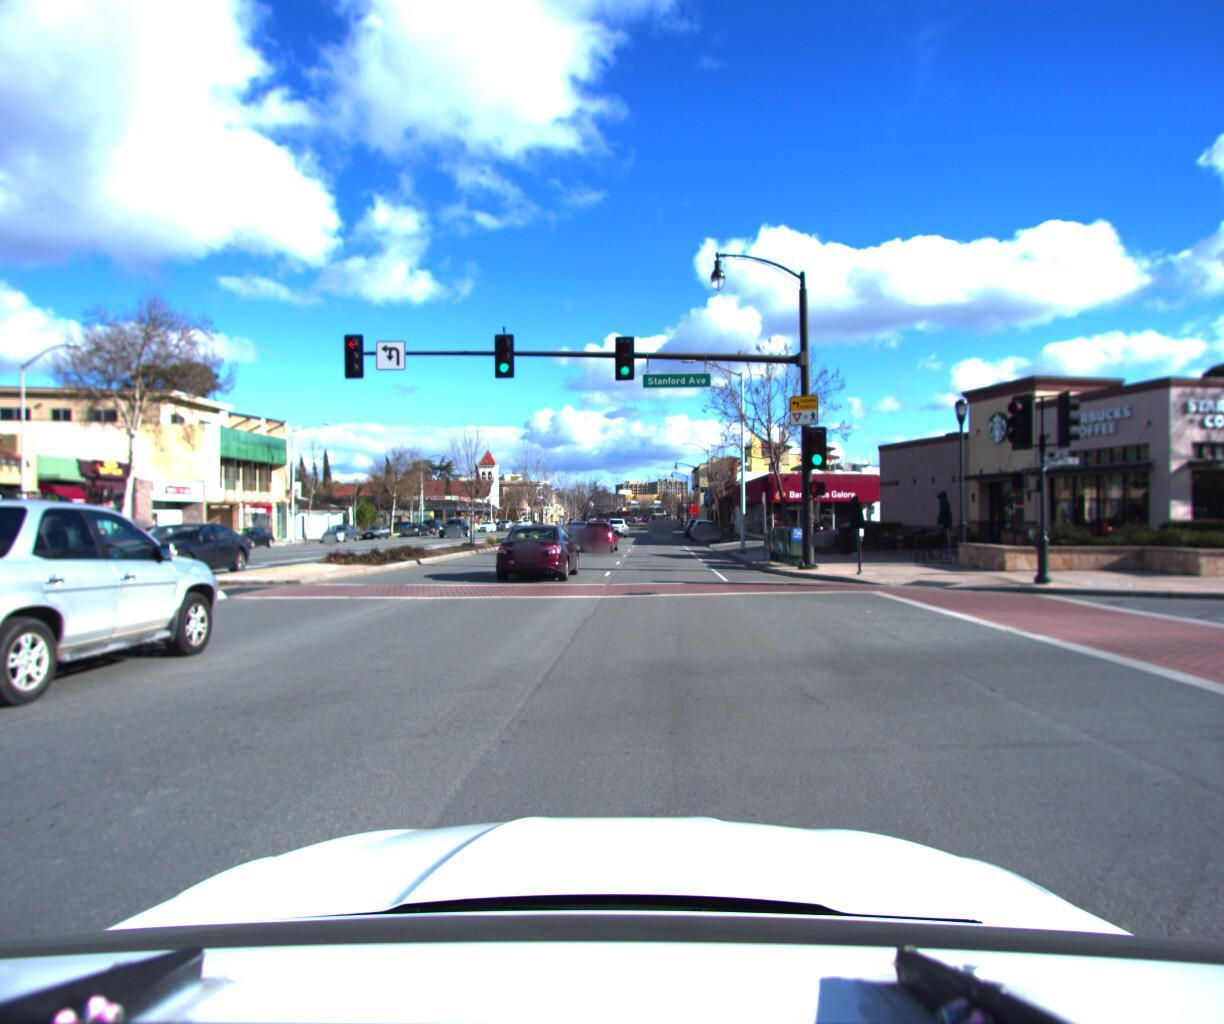car: (90, 522, 265, 585), (497, 521, 584, 589), (805, 519, 905, 550), (224, 528, 282, 552), (582, 522, 623, 555), (323, 524, 365, 544), (690, 519, 718, 542), (362, 525, 394, 541), (570, 521, 594, 541), (608, 519, 630, 538), (651, 520, 670, 538)
